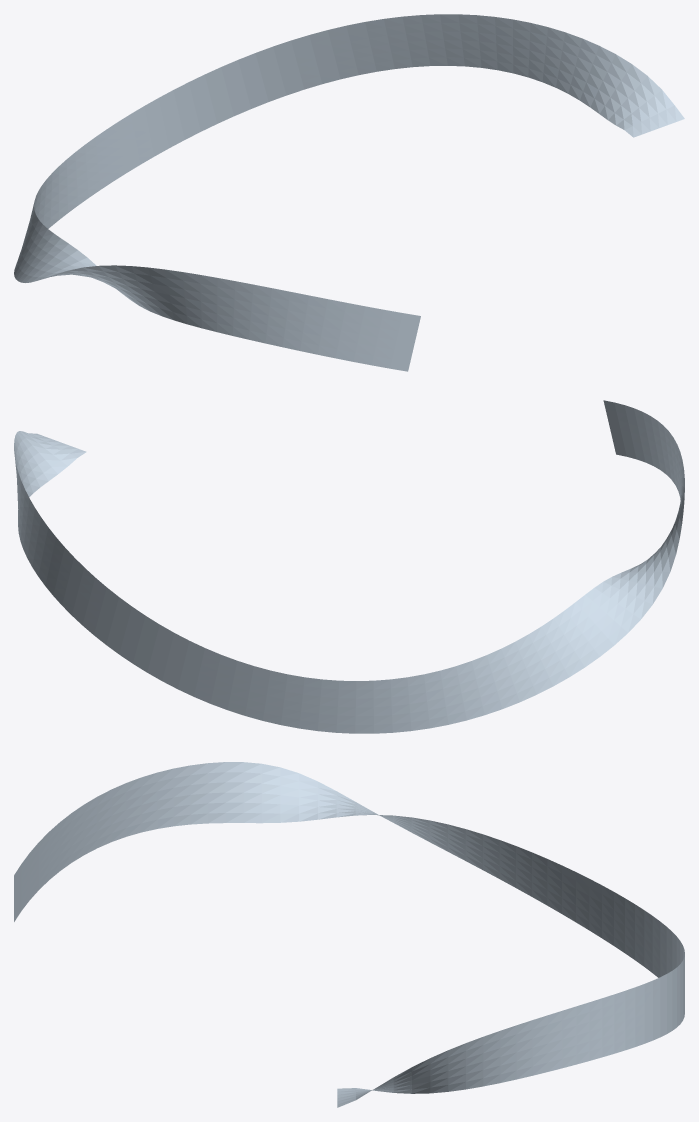
Rendered from 2058_WindWallState_HolderWindMain.fbx.
3 views of the same model, one above another, from view 1: azimuth 30°, elevation 25°; view 2: azimuth 150°, elevation 25°; view 3: azimuth 270°, elevation 25° (orthographic). The views are drawn at different scales.
Visible parts, largest first — view 1: PART_HolderWindMain; view 2: PART_HolderWindMain; view 3: PART_HolderWindMain.
Part boxes in pixels (x1=…): PART_HolderWindMain: x1=14, y1=14, x2=684, y2=371; PART_HolderWindMain: x1=14, y1=400, x2=684, y2=733; PART_HolderWindMain: x1=14, y1=762, x2=684, y2=1107.
Bounding box in the file's own units: 218 × 43.59 × 193.
